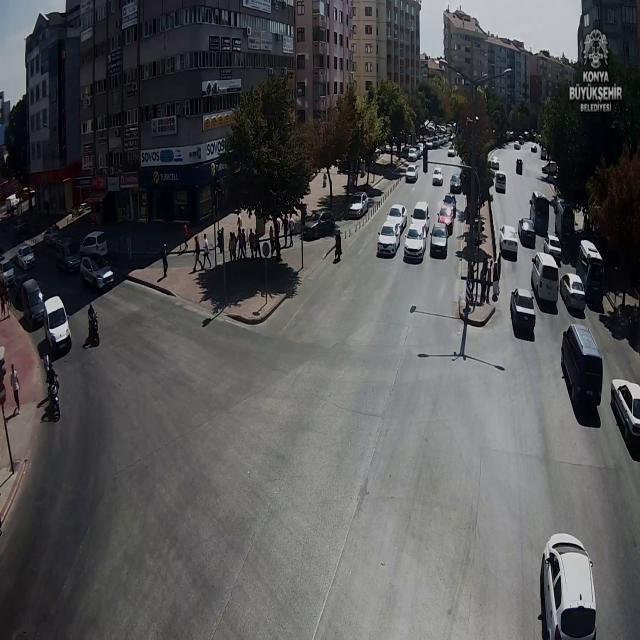Bus: (576, 239, 606, 312), (528, 192, 552, 238)
Car: (540, 535, 597, 639), (609, 381, 640, 443), (41, 296, 71, 348), (18, 279, 46, 330), (79, 253, 114, 292), (49, 236, 83, 273), (510, 289, 536, 334), (560, 273, 586, 313), (302, 212, 336, 240), (377, 222, 402, 256), (403, 224, 427, 259), (80, 230, 109, 258), (429, 223, 449, 257), (499, 224, 519, 257), (543, 234, 563, 262), (348, 191, 369, 217), (387, 203, 408, 229), (16, 243, 36, 270), (437, 203, 455, 233), (518, 218, 536, 246), (0, 258, 16, 288), (412, 201, 429, 223), (43, 226, 61, 245), (442, 194, 457, 211), (405, 164, 419, 182), (494, 172, 506, 193), (449, 174, 462, 193), (432, 167, 444, 186), (407, 148, 419, 162), (490, 156, 500, 169), (416, 143, 425, 154), (516, 158, 523, 172), (432, 136, 440, 148), (425, 140, 434, 150), (448, 148, 456, 157), (530, 144, 538, 152), (514, 142, 520, 150), (518, 137, 524, 145)
Cycle: (44, 377, 63, 420), (85, 313, 100, 342)
Van: (560, 323, 604, 409), (529, 253, 562, 308), (541, 160, 558, 173)
